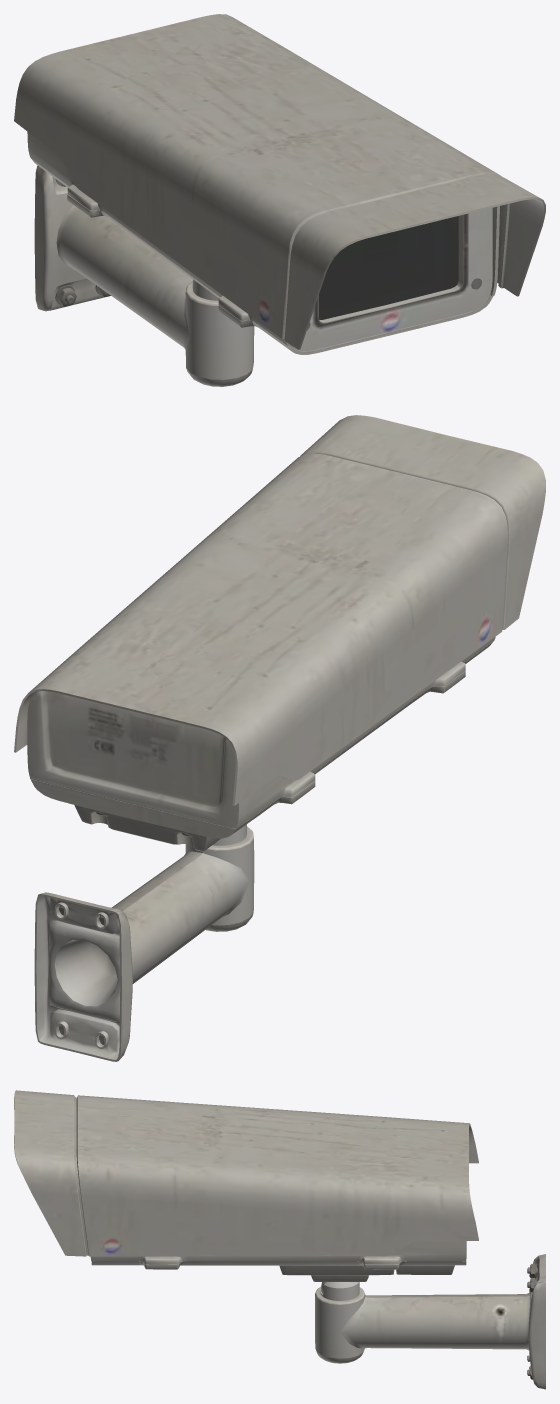
The model's file is security_camera_02_512.glb.
The picture shows the model from 3 angles, top to bottom: view 1: azimuth 30°, elevation 25°; view 2: azimuth 150°, elevation 25°; view 3: azimuth 270°, elevation 25°; orthographic projection. The views are drawn at different scales.
Parts seen in each view (by area): view 1: security_camera_02, security_camera_02_mount; view 2: security_camera_02, security_camera_02_mount; view 3: security_camera_02, security_camera_02_mount.
Part boxes in pixels (left/top/right/bottom): security_camera_02: left=14, top=14, right=545, bottom=354; security_camera_02_mount: left=34, top=165, right=254, bottom=386; security_camera_02: left=14, top=415, right=545, bottom=851; security_camera_02_mount: left=34, top=824, right=254, bottom=1061; security_camera_02: left=14, top=1090, right=478, bottom=1294; security_camera_02_mount: left=315, top=1254, right=545, bottom=1389.
Size of the model in its own units: 0.1406 by 0.2086 by 0.3938.
Materials: 2 (2 with a texture image).
